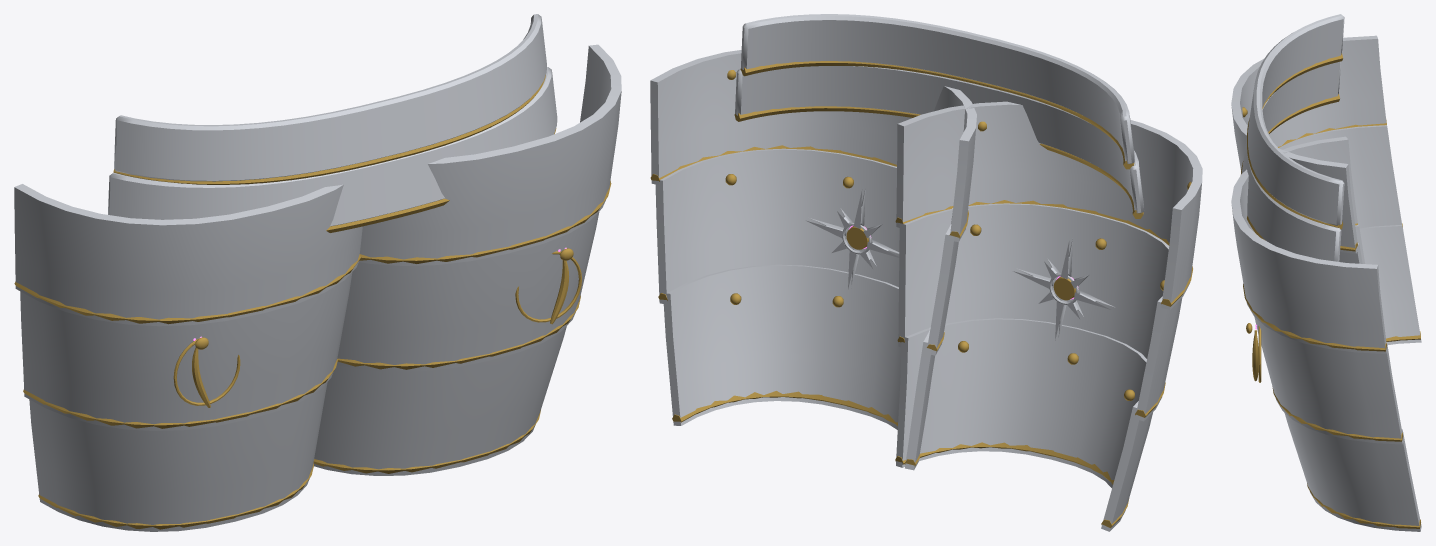
The model's file is esc_unmaker_vanguard_leggings.glb.
3 renders of one model, left to right at view 1: azimuth 30°, elevation 25°; view 2: azimuth 150°, elevation 25°; view 3: azimuth 270°, elevation 25°, orthographic. The views are drawn at different scales.
Visible parts, largest first — view 1: AT_thigh_R, AT_thigh_L, esc_unmaker_vanguard_leggings; view 2: AT_thigh_R, AT_thigh_L, esc_unmaker_vanguard_leggings; view 3: AT_thigh_L, AT_thigh_R, esc_unmaker_vanguard_leggings.
Boxes of the visible parts, box(x1,y1,x2,y2) form: AT_thigh_R: box(14, 184, 362, 531); AT_thigh_L: box(313, 44, 621, 475); esc_unmaker_vanguard_leggings: box(108, 14, 557, 232); AT_thigh_R: box(895, 101, 1202, 531); AT_thigh_L: box(650, 50, 976, 470); esc_unmaker_vanguard_leggings: box(734, 14, 1144, 340); AT_thigh_L: box(1231, 136, 1421, 531); AT_thigh_R: box(1231, 35, 1421, 344); esc_unmaker_vanguard_leggings: box(1241, 14, 1344, 261).
Bounding box in the file's own units: 0.5129 × 0.3481 × 0.177.
